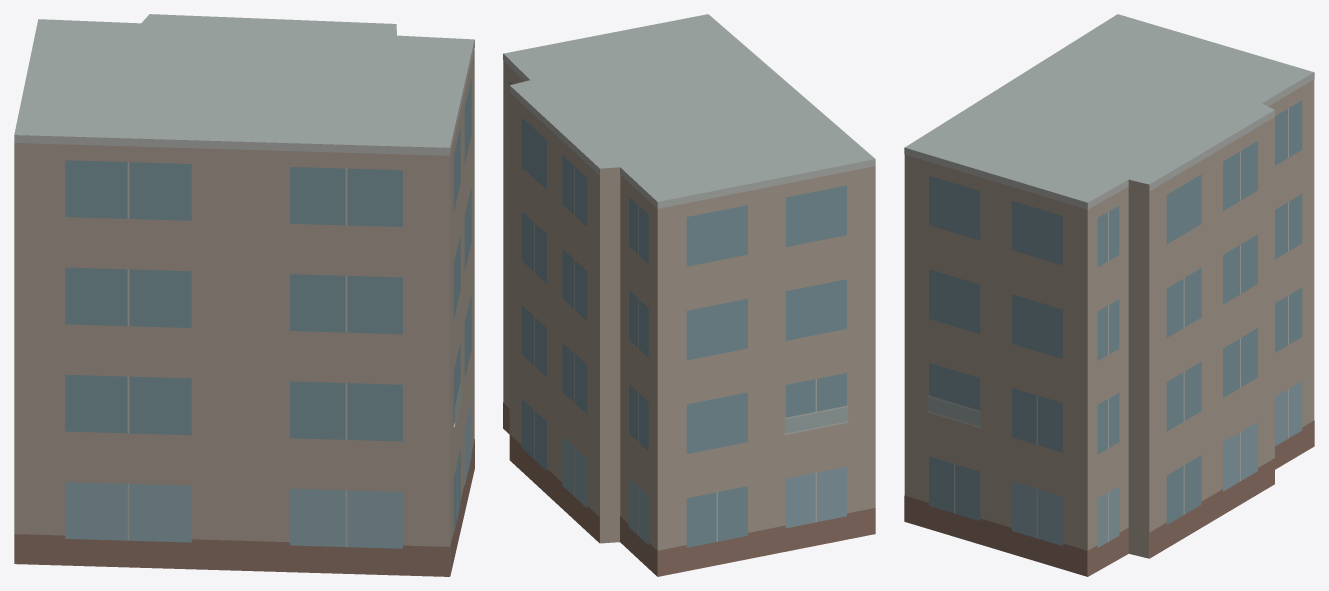
Rendered from survey-upis-33006614.glb.
3 views of the same model, side by side, from view 1: azimuth 30°, elevation 25°; view 2: azimuth 150°, elevation 25°; view 3: azimuth 270°, elevation 25° (orthographic). The views are drawn at different scales.
Parts seen in each view (by area): view 1: survey-upis-33006614.tmp; view 2: survey-upis-33006614.tmp; view 3: survey-upis-33006614.tmp.
Part boxes in pixels (x1,y1,x2,y2): survey-upis-33006614.tmp: [14, 14, 474, 576]; survey-upis-33006614.tmp: [503, 14, 875, 576]; survey-upis-33006614.tmp: [904, 14, 1314, 576].
Size of the model in its own units: 14.29 by 13.2 by 13.11.
